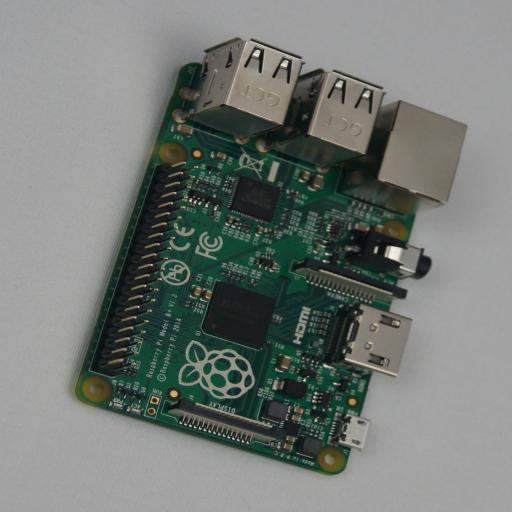Raspberry Pi 1 B-: (75, 38, 456, 475)
